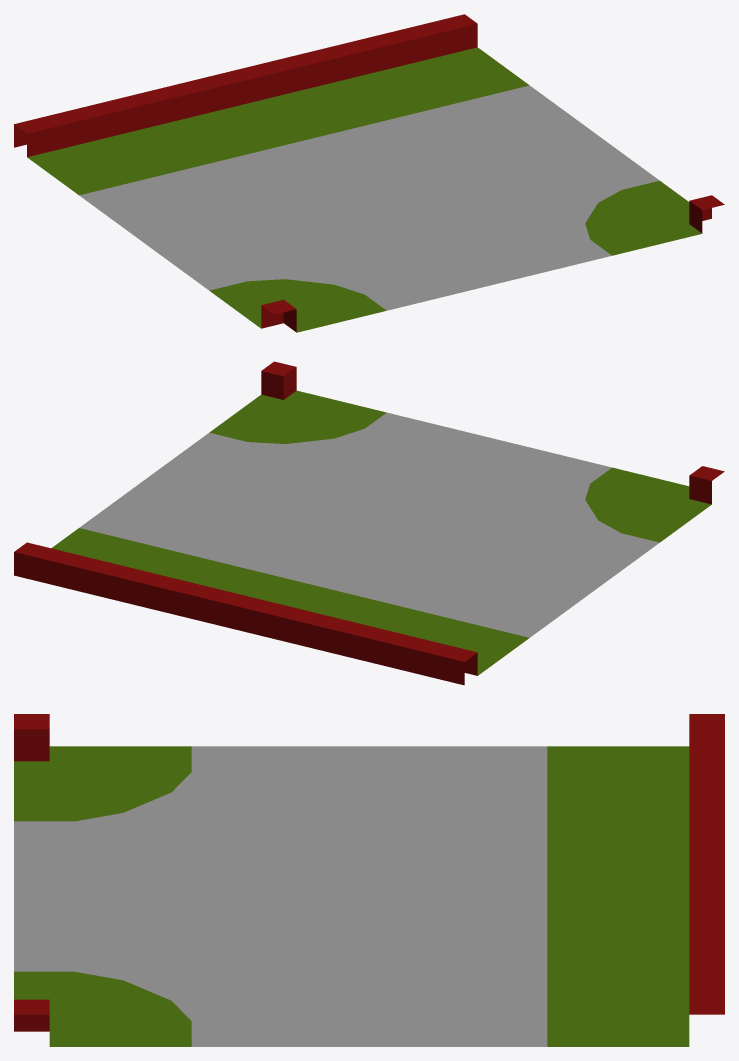
File: roadtile_tee_20x20.FBX
3 views of the same model, one above another, from view 1: azimuth 30°, elevation 25°; view 2: azimuth 150°, elevation 25°; view 3: azimuth 270°, elevation 25° (orthographic). The views are drawn at different scales.
Visible parts, largest first — view 1: Plane002; view 2: Plane002; view 3: Plane002.
Boxes of the visible parts, x1,y1,x2,y2 form: Plane002: [14, 14, 724, 332]; Plane002: [14, 361, 724, 685]; Plane002: [14, 714, 724, 1046].
Bounding box in the file's own units: 787 × 39.37 × 787.
